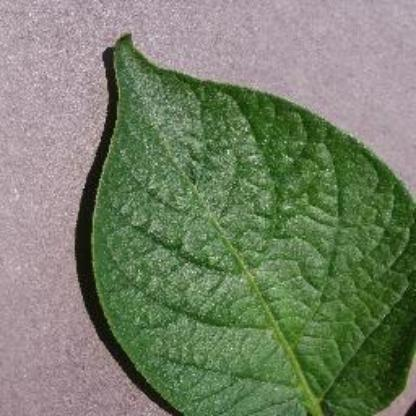Healthy-plant: (81, 31, 415, 415)
